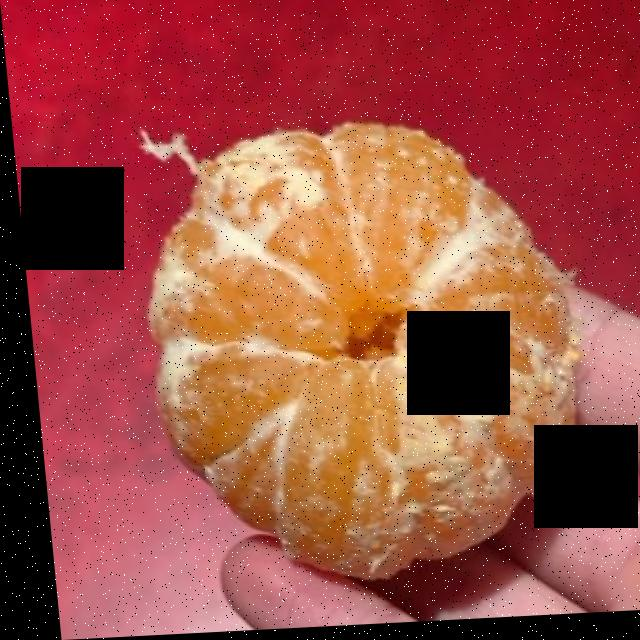mandarine: (144, 137, 576, 580)
